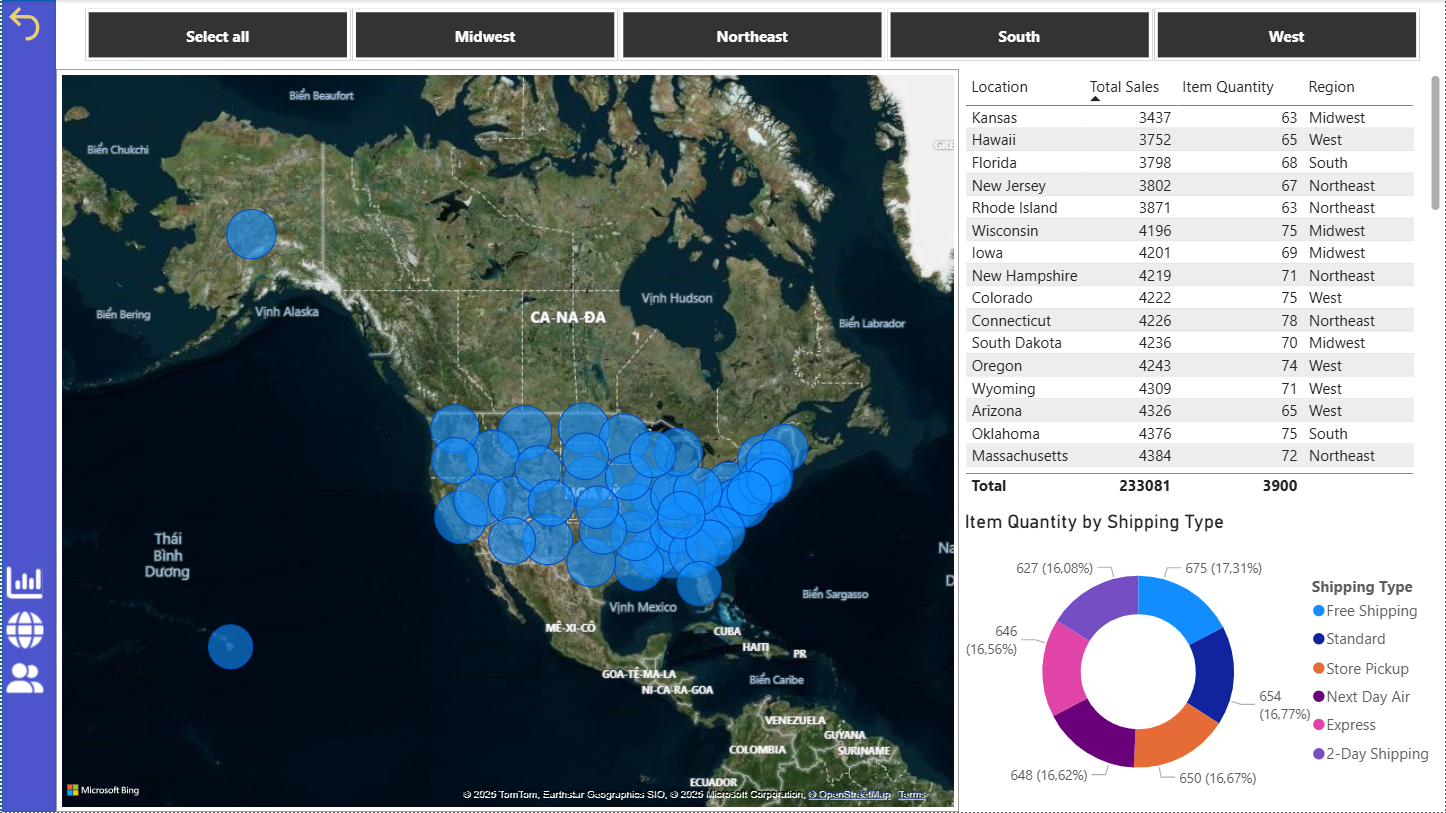

The dashboard page shown, as its layout file describes it:
{"tool":"powerbi","page":{"name":"Map","canvas":[1280,720],"ordinal":2},"visuals":[{"type":"actionButton","box":[0.2,496.7,47.8,40.1],"z":0,"group":"g1"},{"type":"map","fields":{"Category":["shopping_trends.Location"],"Size":["Measure Table (DAX).Total Sales"]},"box":[47.9,61.2,800.7,658.8],"z":0},{"type":"actionButton","box":[0,538.6,47.9,40.8],"z":1000,"group":"g1"},{"type":"tableEx","fields":{"Values":["shopping_trends.Location","Measure Table (DAX).Total Sales","Measure Table (DAX).Quantity_of_items","shopping_trends.Region"]},"box":[848.6,61.2,431.8,383.1],"z":1000},{"type":"donutChart","title":"Item Quantity by Shipping Type","fields":{"Category":["shopping_trends.Shipping Type"],"Y":["Measure Table (DAX).Quantity_of_items"]},"box":[848.6,452.2,431.8,267.8],"z":2000},{"type":"slicer","fields":{"Values":["shopping_trends.Region"]},"box":[47.9,0.9,1232.5,60.3],"z":3000},{"type":"actionButton","box":[0,581.2,47.9,40.8],"z":3000,"group":"g1"},{"type":"shape","title":"Menu","box":[0,0,47.9,720],"z":4000},{"type":"actionButton","box":[0,1.1,47.8,40],"z":5000},{"type":"group","id":"g1","title":"Navigation Buttons","box":[0,496.7,47.9,125.3],"z":6000}]}

Visuals, with their boxes on the page's 1280x720 design canvas (x1, y1, x2, y2). These are canvas units, not pixel positions in the 1446x813 screenshot, which may show the page scaled, cropped or inside an application window:
actionButton: Rect(0, 497, 48, 537)
map - shopping_trends.Location x Measure Table (DAX).Total Sales: Rect(48, 61, 849, 720)
actionButton: Rect(0, 539, 48, 579)
tableEx - shopping_trends.Location x Measure Table (DAX).Total Sales: Rect(849, 61, 1280, 444)
"Item Quantity by Shipping Type" donutChart: Rect(849, 452, 1280, 720)
slicer - shopping_trends.Region: Rect(48, 1, 1280, 61)
actionButton: Rect(0, 581, 48, 622)
"Menu" shape: Rect(0, 0, 48, 720)
actionButton: Rect(0, 1, 48, 41)
"Navigation Buttons" group: Rect(0, 497, 48, 622)
